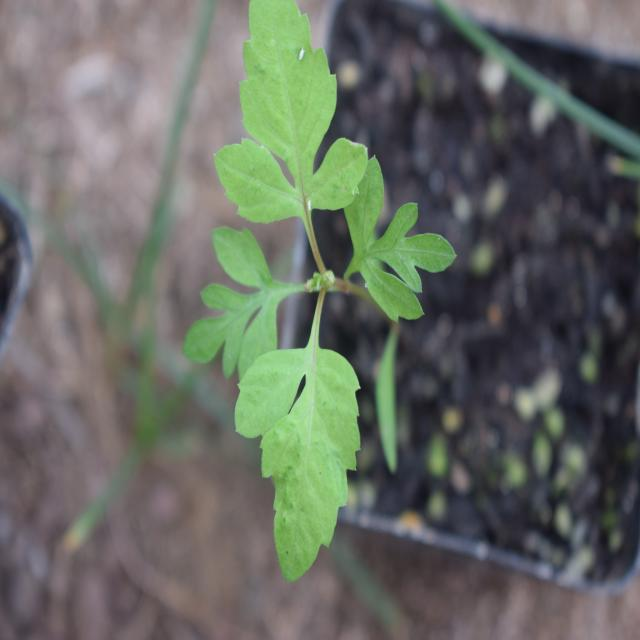Bidens pilosa: (192, 0, 444, 568)
